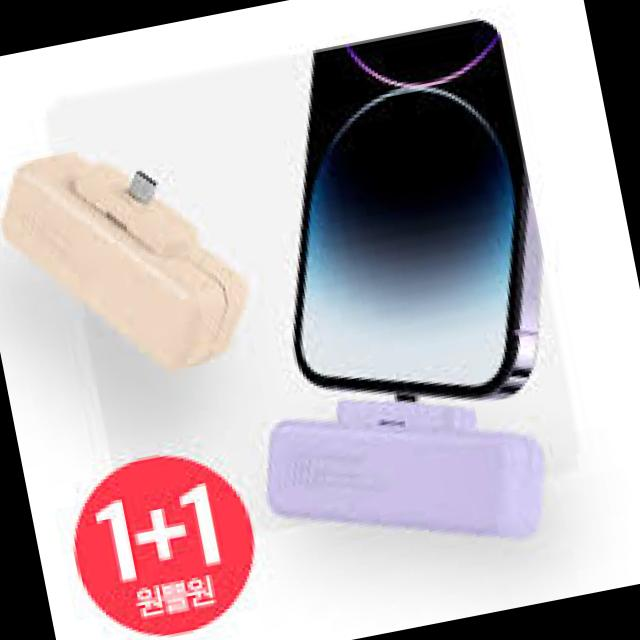power_bank: (0, 118, 262, 404), (244, 357, 562, 592)
